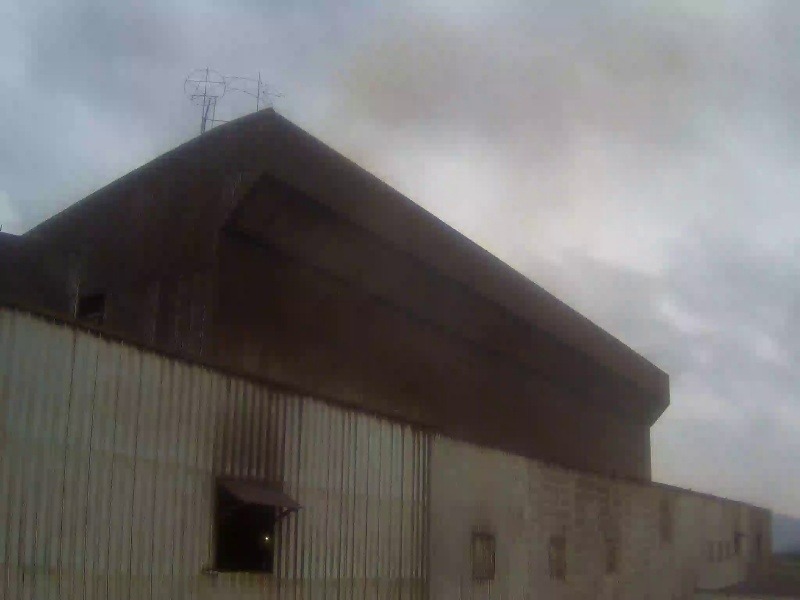bom: (4, 4, 271, 229), (667, 172, 800, 411)
ruim: (323, 17, 615, 271)
